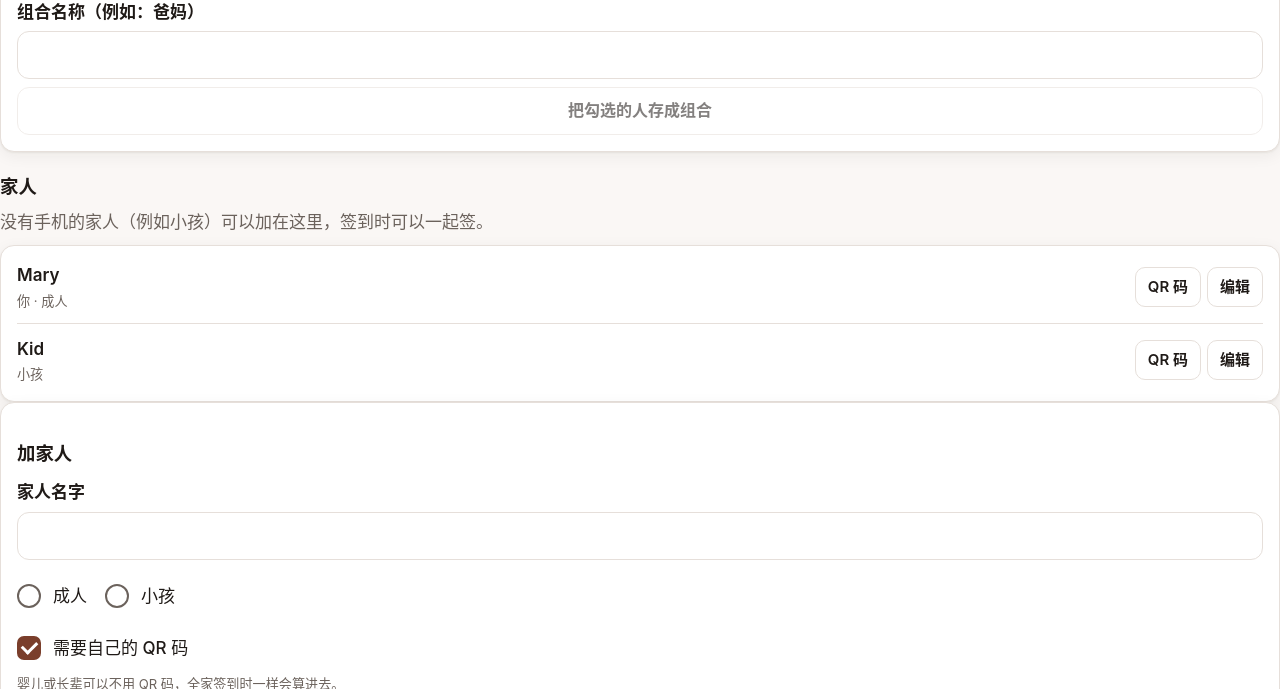
FamilyPage › shows an error when saving fails
The image size is (1280, 689).
(page scrolled)
What coordinates should you click on to do the following:
click the 2nd button "编辑"
I would click on:
 (1235, 360)
Its box is 1207,340 -> 1263,380.
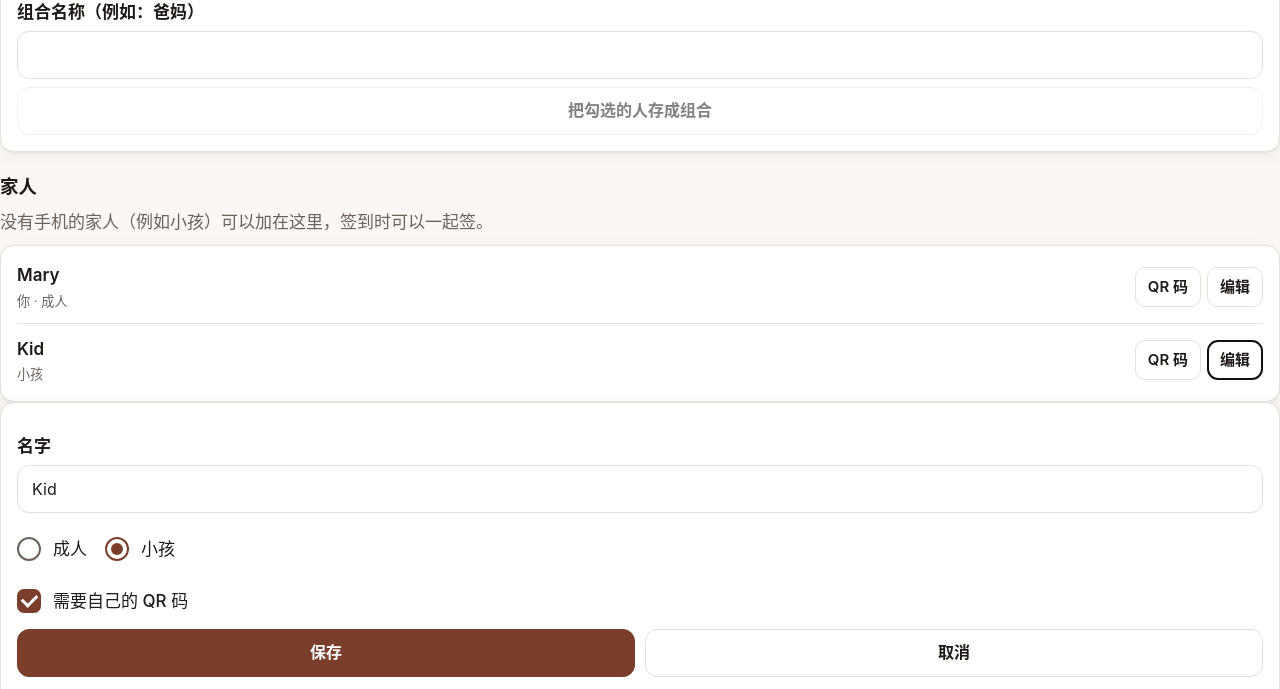
What coordinates should you click on to do the following:
click the button "保存"
I would click on:
 (326, 653)
Its box is 17,629 -> 635,677.
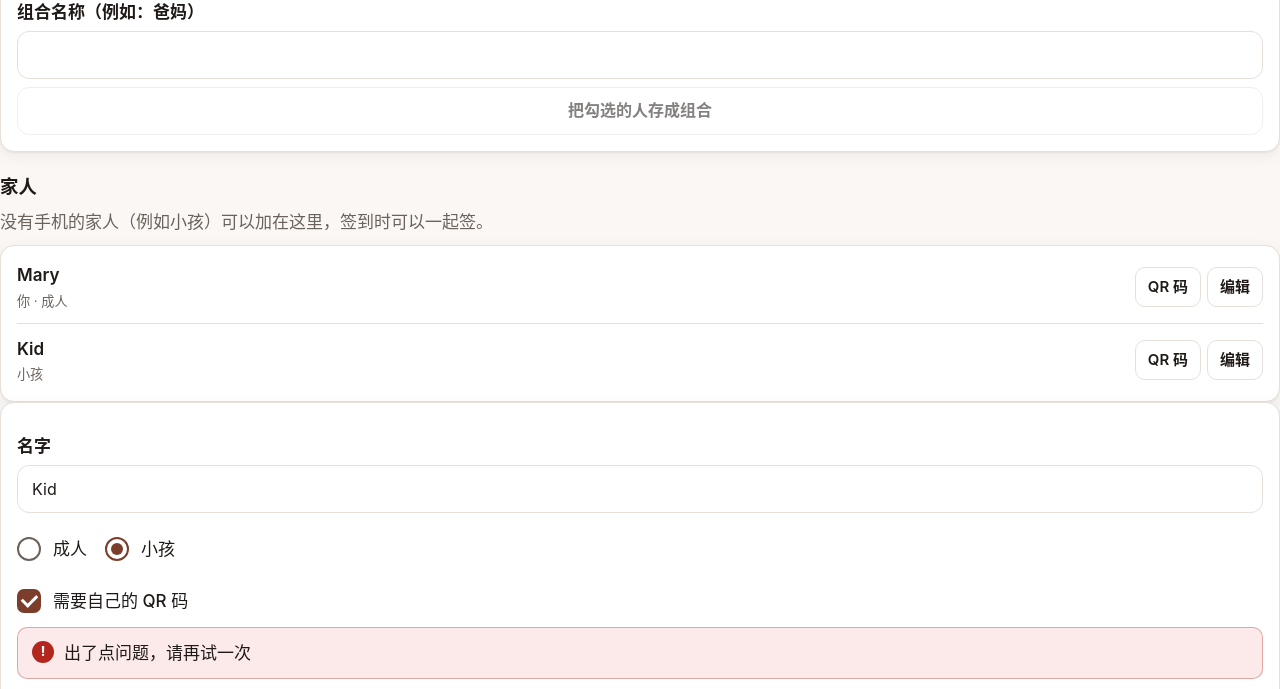
Expected: the text "出了点问题，请再试一次" is shown, 17,627 -> 1263,679
